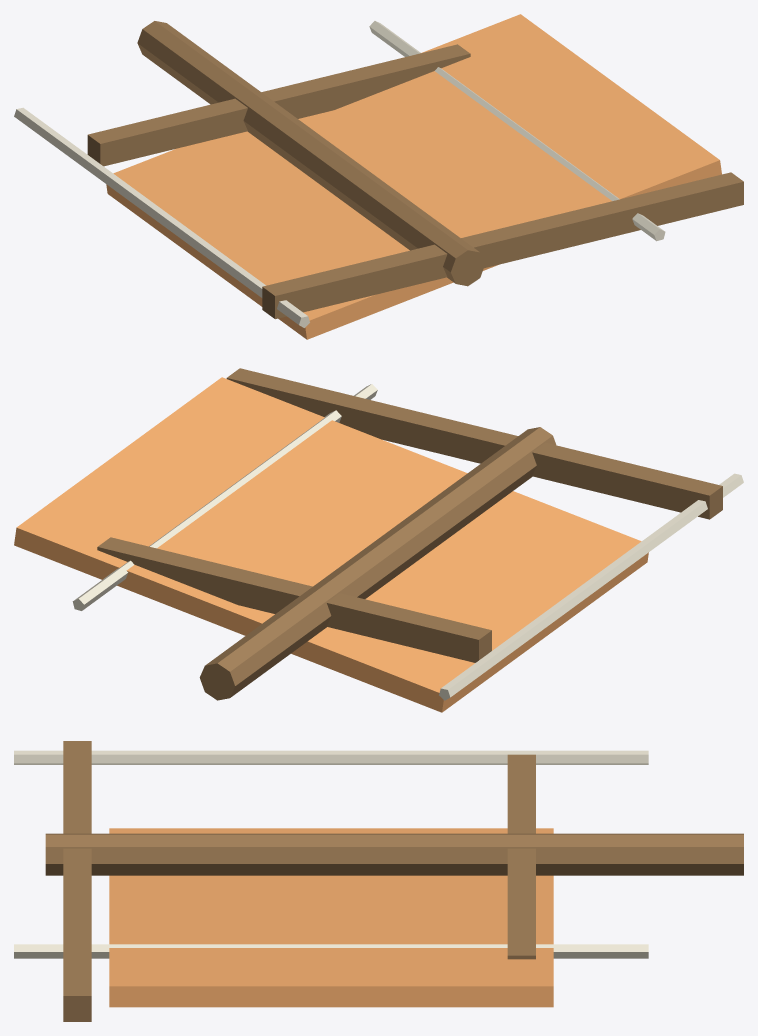
The model's file is 07_skyship_rigging.glb.
3 views of the same model, one above another, from view 1: azimuth 30°, elevation 25°; view 2: azimuth 150°, elevation 25°; view 3: azimuth 270°, elevation 25° (orthographic). The views are drawn at different scales.
Visible parts, largest first — view 1: sail_panel, spar_top, mast, spar_bottom, rigging_line_l, rigging_line_r; view 2: sail_panel, mast, spar_top, spar_bottom, rigging_line_l, rigging_line_r; view 3: sail_panel, mast, rigging_line_l, spar_top, spar_bottom, rigging_line_r.
Part boxes in pixels (box(x1,y1,x2,y2)): sail_panel: box(106, 14, 721, 339); spar_top: box(262, 172, 743, 319); mast: box(137, 21, 484, 286); spar_bottom: box(87, 44, 470, 166); rigging_line_l: box(14, 107, 309, 327); rigging_line_r: box(369, 21, 665, 241); sail_panel: box(14, 377, 648, 712); mast: box(199, 427, 556, 700); spar_top: box(226, 368, 722, 519); spar_bottom: box(97, 537, 491, 662); rigging_line_l: box(439, 473, 743, 700); rigging_line_r: box(72, 384, 377, 610); sail_panel: box(109, 828, 553, 1007); mast: box(45, 833, 743, 875); rigging_line_l: box(14, 750, 648, 764); spar_top: box(63, 741, 91, 1021); spar_bottom: box(507, 754, 535, 959); rigging_line_r: box(14, 944, 648, 958).
Bounding box in the file's own units: 2.66 × 0.4283 × 3.22.
